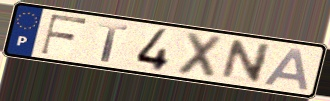4: (134, 26, 171, 73)
A: (261, 46, 311, 92)
F: (38, 13, 90, 57)
N: (218, 39, 274, 85)
T: (97, 21, 130, 64)
X: (173, 30, 227, 82)
